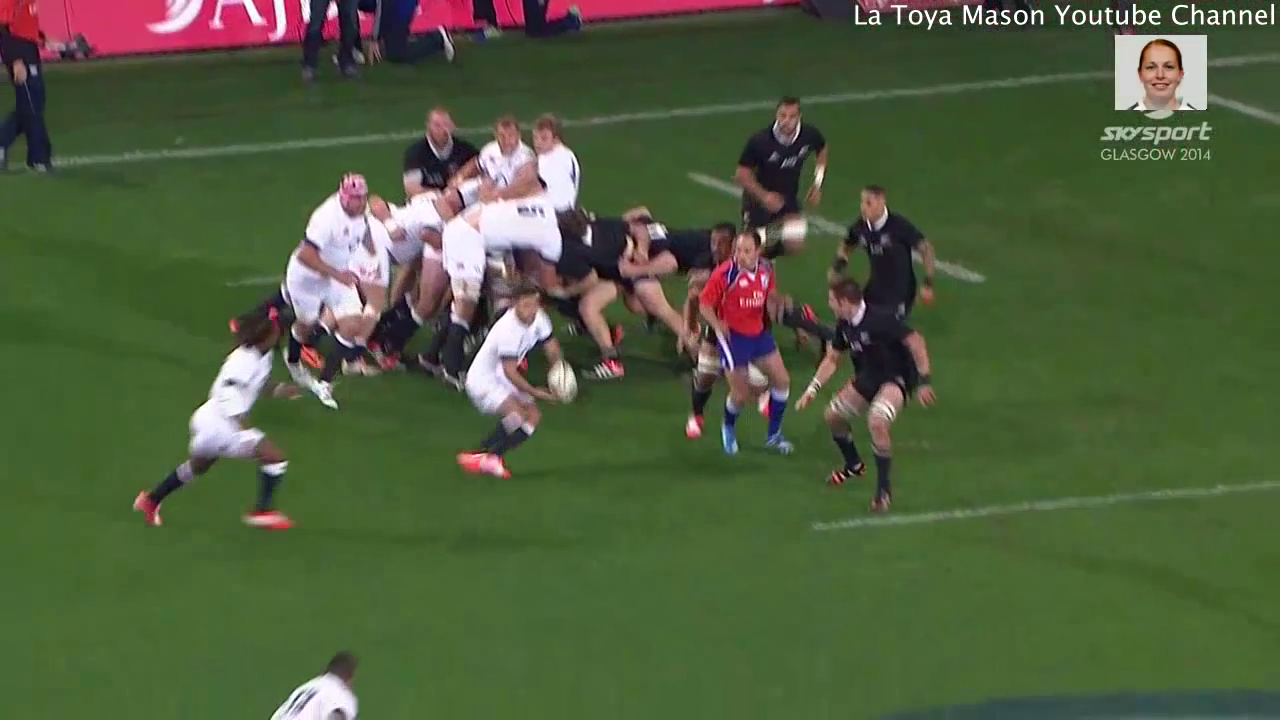ball: (542, 344, 584, 416)
player: (125, 308, 297, 542), (797, 269, 939, 525), (693, 230, 817, 476), (450, 268, 586, 488), (429, 192, 573, 398), (278, 162, 373, 428), (561, 200, 686, 381), (343, 173, 442, 383), (718, 88, 833, 267), (829, 174, 948, 332), (246, 635, 378, 720), (394, 102, 497, 204), (457, 112, 553, 200), (521, 110, 588, 216), (645, 216, 725, 281)
